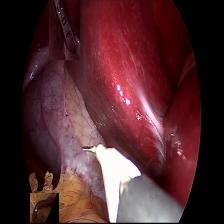Grasper: (50, 0, 80, 60), (30, 193, 59, 224)
Hook: (79, 139, 149, 222)
